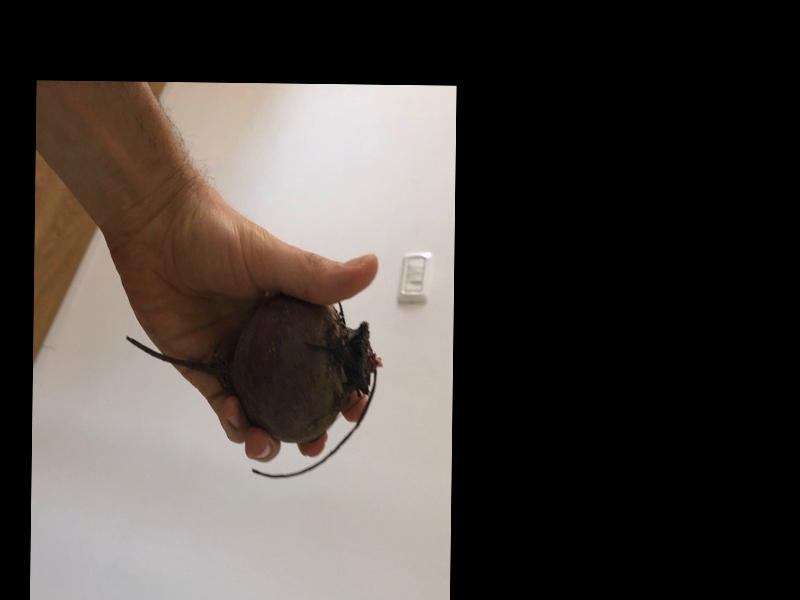Beet: (125, 297, 381, 481)
